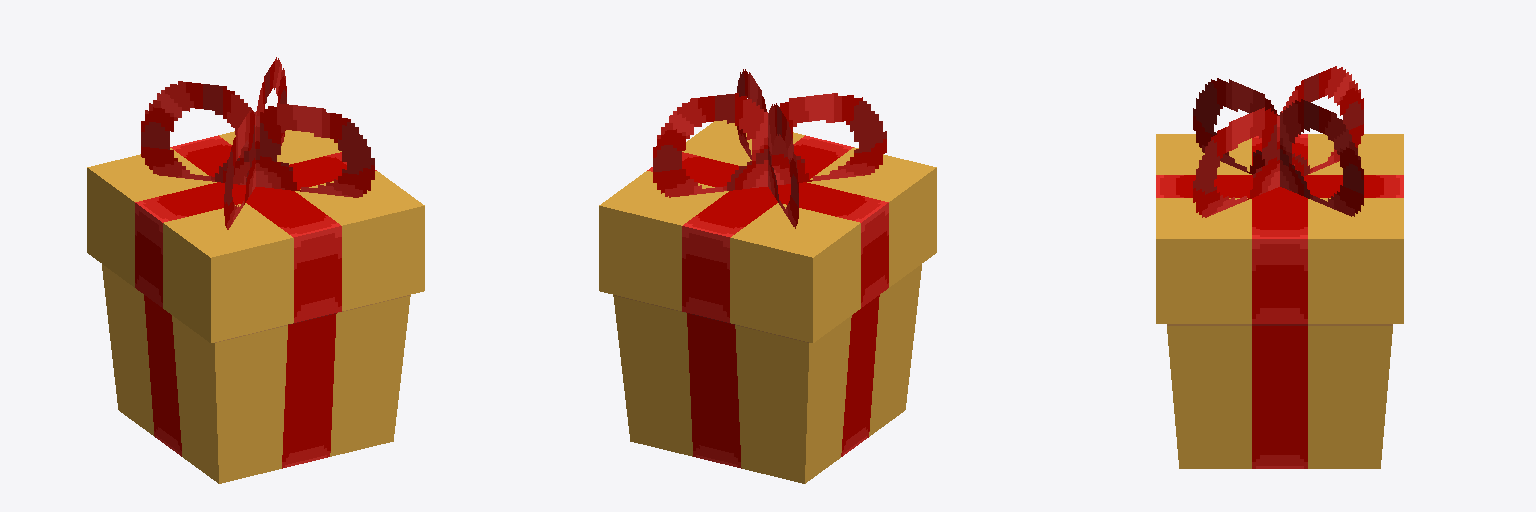
3 views of the same model, side by side, from view 1: azimuth 30°, elevation 25°; view 2: azimuth 150°, elevation 25°; view 3: azimuth 270°, elevation 25° (orthographic).
Parts seen in each view (by area): view 1: Cube, Plane; view 2: Cube, Plane; view 3: Cube, Plane.
Part boxes in pixels (x1,y1,x2,y2): Cube: (87,130,424,483); Plane: (141,57,374,229); Cube: (599,120,936,483); Plane: (653,69,886,228); Cube: (1156,134,1403,468); Plane: (1193,66,1363,217).
Size of the model in its own units: 1.22 by 1.85 by 1.22.
Materials: 1 (1 with a texture image).